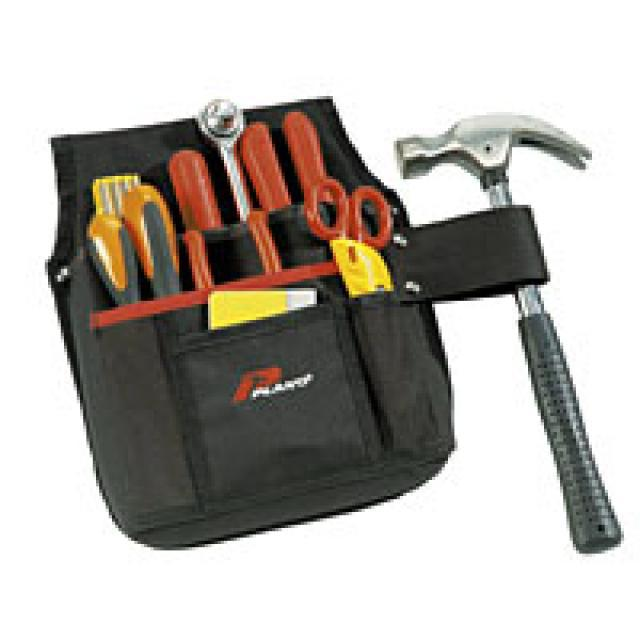hammer: (385, 104, 637, 562)
